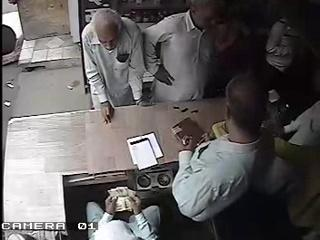Normal: (172, 74, 292, 236), (142, 0, 228, 103), (81, 9, 149, 125), (86, 188, 162, 240)
